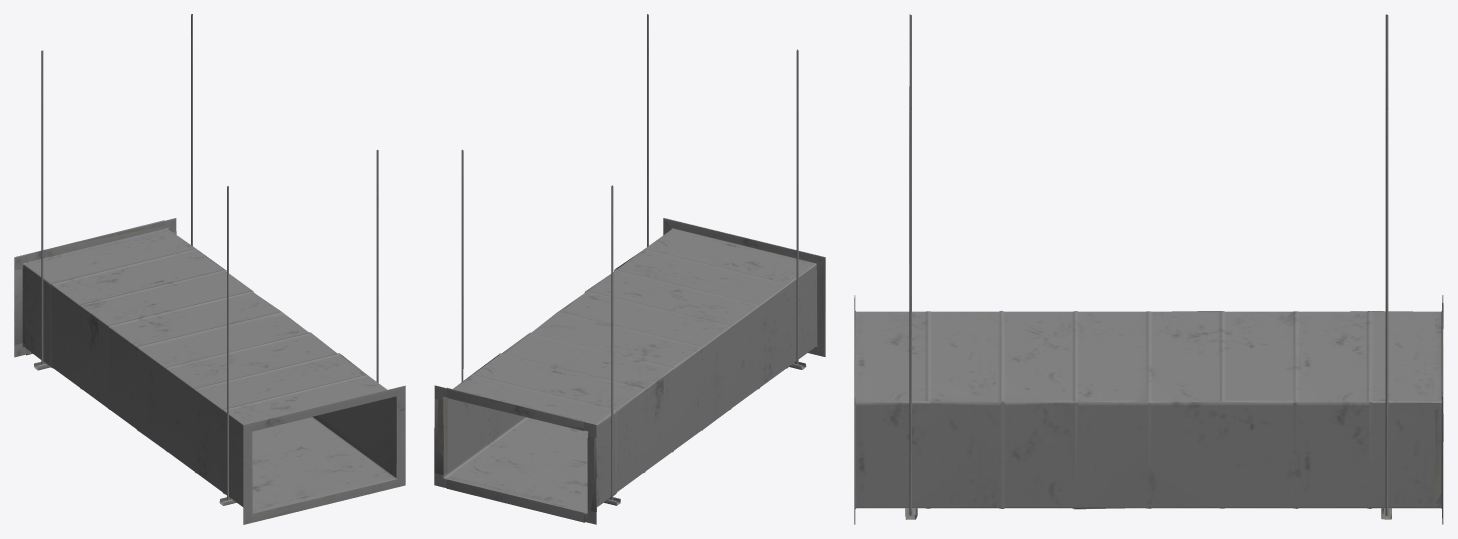
File: SM_Ventilation_Stack01.fbx
3 renders of one model, left to right at view 1: azimuth 30°, elevation 25°; view 2: azimuth 150°, elevation 25°; view 3: azimuth 270°, elevation 25°, orthographic. The views are drawn at different scales.
Visible parts, largest first — view 1: SM_Ventilation_Stack01_LOD0; view 2: SM_Ventilation_Stack01_LOD0; view 3: SM_Ventilation_Stack01_LOD0.
Boxes of the visible parts, x1,y1,x2,y2 form: SM_Ventilation_Stack01_LOD0: (14,14,405,524); SM_Ventilation_Stack01_LOD0: (434,14,825,524); SM_Ventilation_Stack01_LOD0: (854,14,1443,524).
Bounding box in the file's own units: 82.16 × 200 × 156.
